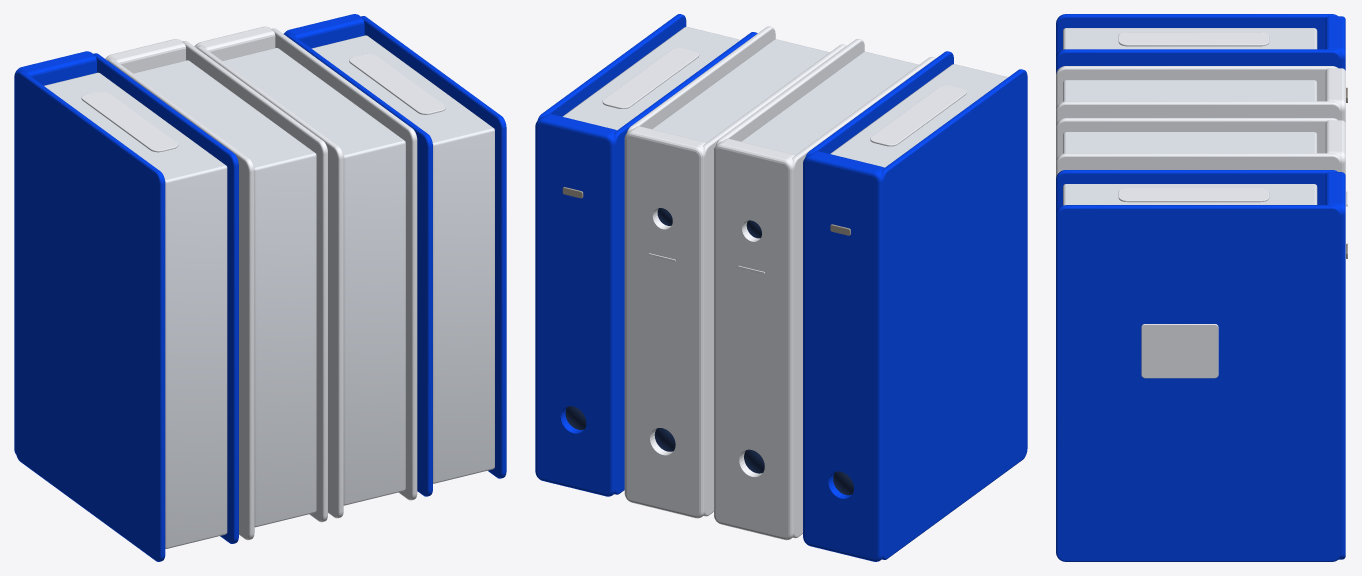
Rendered from 25-nodeworks-document-box.glb.
3 views of the same model, side by side, from view 1: azimuth 30°, elevation 25°; view 2: azimuth 150°, elevation 25°; view 3: azimuth 270°, elevation 25° (orthographic).
Parts seen in each view (by area): view 1: binder_4_left_cover, binder_3_paper_block, binder_2_paper_block, binder_4_paper_block, binder_1_paper_block, binder_4_right_cover, binder_3_right_cover, binder_3_left_cover, binder_2_right_cover, binder_1_right_cover, binder_2_left_cover, binder_1_left_cover (+6 smaller); view 2: binder_4_left_cover, binder_4_spine, binder_3_spine, binder_2_spine, binder_1_spine, binder_2_paper_block, binder_3_paper_block, binder_1_paper_block, binder_4_paper_block, binder_2_left_cover, binder_1_left_cover, binder_2_right_cover (+6 smaller); view 3: binder_1_right_cover, binder_2_paper_block, binder_3_paper_block, binder_4_right_cover, binder_2_right_cover, binder_3_right_cover, front_blue_binder_side_index, binder_4_left_cover, binder_3_left_cover, binder_2_left_cover, binder_1_left_cover, binder_1_spine (+7 smaller).
Part boxes in pixels (<box>): binder_4_left_cover: <box>16,71,165,561</box>; binder_3_paper_block: <box>133,60,316,527</box>; binder_2_paper_block: <box>222,48,405,505</box>; binder_4_paper_block: <box>44,72,227,548</box>; binder_1_paper_block: <box>311,35,494,483</box>; binder_4_right_cover: <box>93,53,238,543</box>; binder_3_right_cover: <box>182,41,327,522</box>; binder_3_left_cover: <box>107,59,254,540</box>; binder_2_right_cover: <box>271,28,417,500</box>; binder_1_right_cover: <box>361,16,506,478</box>; binder_2_left_cover: <box>196,46,343,518</box>; binder_1_left_cover: <box>285,34,432,496</box>; binder_4_left_cover: <box>881,69,1027,559</box>; binder_4_spine: <box>803,151,889,561</box>; binder_3_spine: <box>714,138,799,540</box>; binder_2_spine: <box>624,126,710,518</box>; binder_1_spine: <box>535,114,621,496</box>; binder_2_paper_block: <box>652,39,829,142</box>; binder_3_paper_block: <box>741,51,918,155</box>; binder_1_paper_block: <box>562,27,740,130</box>; binder_4_paper_block: <box>830,64,1007,167</box>; binder_2_left_cover: <box>703,44,846,516</box>; binder_1_left_cover: <box>614,32,757,494</box>; binder_2_right_cover: <box>627,26,775,132</box>; binder_1_right_cover: <box>1056,205,1340,561</box>; binder_2_paper_block: <box>1063,132,1317,153</box>; binder_3_paper_block: <box>1063,80,1317,101</box>; binder_4_right_cover: <box>1056,49,1340,73</box>; binder_2_right_cover: <box>1056,153,1340,177</box>; binder_3_right_cover: <box>1056,101,1340,125</box>; front_blue_binder_side_index: <box>1141,324,1218,378</box>; binder_4_left_cover: <box>1056,14,1337,57</box>; binder_3_left_cover: <box>1056,66,1337,108</box>; binder_2_left_cover: <box>1056,118,1337,160</box>; binder_1_left_cover: <box>1056,170,1337,212</box>; binder_1_spine: <box>1325,172,1345,559</box>.
Size of the model in its own units: 0.3127 by 0.334 by 0.2307.
